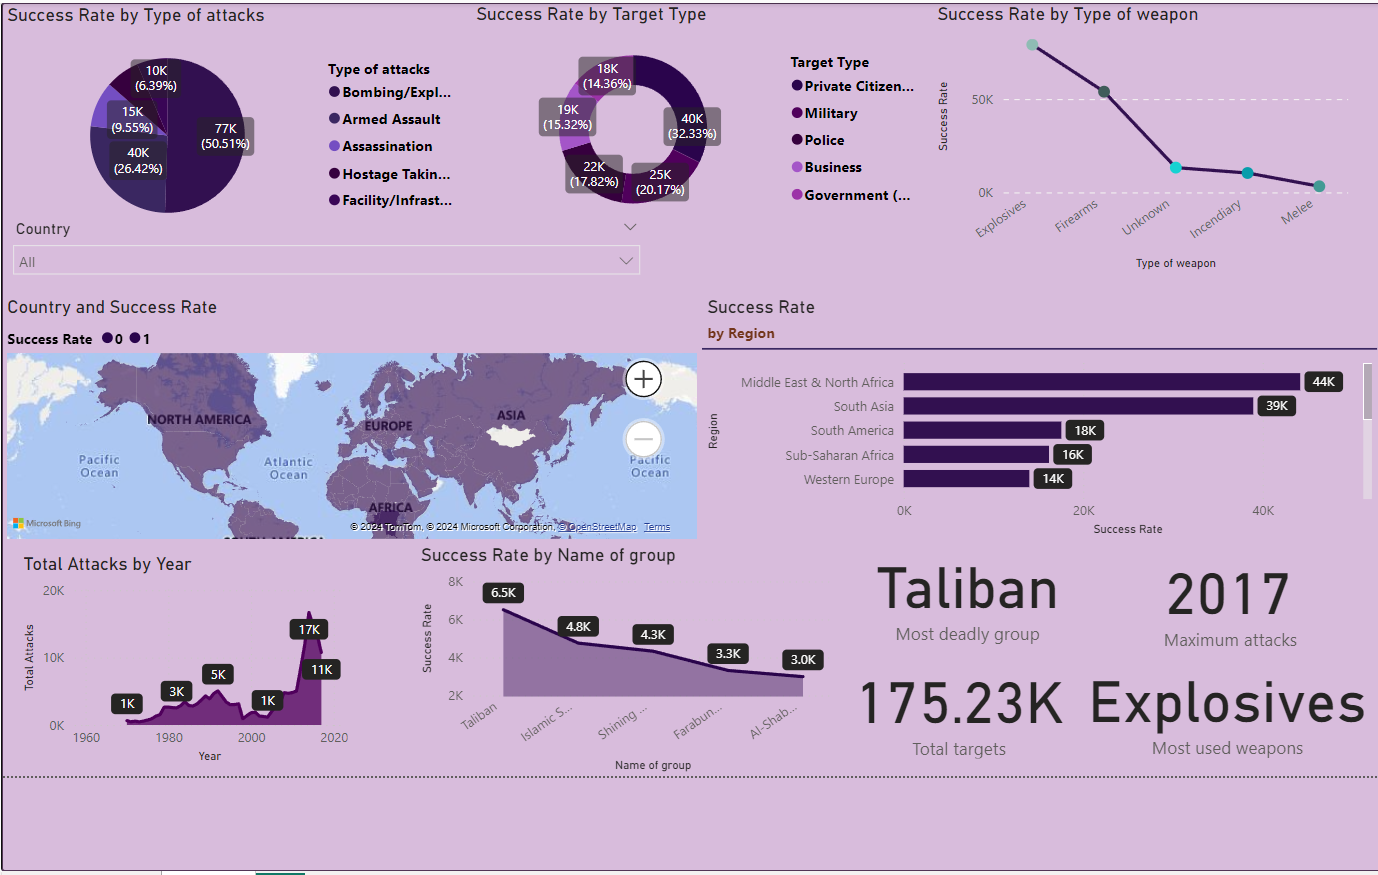

What the dashboard file says about the page in this screenshot:
{"tool":"powerbi","page":{"name":"Page 1","canvas":[1280,720],"ordinal":0},"visuals":[{"type":"pieChart","fields":{"Category":["Global terrorism final data set.Type of attacks"],"Y":["Sum(Global terrorism final data set.Success Rate)"]},"box":[0,1.1,436.3,223.8],"z":0},{"type":"donutChart","fields":{"Category":["Global terrorism final data set.Target Type"],"Y":["Sum(Global terrorism final data set.Success Rate)"]},"box":[436.3,0,428.4,214.8],"z":1000},{"type":"lineChart","fields":{"Category":["Global terrorism final data set.Type of weapon"],"Y":["Sum(Global terrorism final data set.Success Rate)"]},"box":[864.7,0,392.2,253.2],"z":2000},{"type":"filledMap","fields":{"Category":["Global terrorism final data set.Country"],"Series":["Global terrorism final data set.Success Rate"]},"box":[0,271.7,651.7,231.7],"z":3000},{"type":"barChart","fields":{"Category":["Global terrorism final data set.Region"],"Y":["Sum(Global terrorism final data set.Success Rate)"]},"box":[651.7,271.7,628.3,228.3],"z":4000},{"type":"areaChart","fields":{"Category":["Global terrorism final data set.Name of group"],"Y":["Sum(Global terrorism final data set.Success Rate)"]},"box":[385,503.3,393.3,216.7],"z":5000},{"type":"areaChart","fields":{"Category":["Global terrorism final data set.Year"],"Y":["CountNonNull(Global terrorism final data set.Year)"]},"box":[15,511.7,311.7,200],"z":6000},{"type":"slicer","fields":{"Values":["Global terrorism final data set.Country"]},"box":[0,196.7,603.3,75],"z":7000},{"type":"card","fields":{"Values":["Min(Global terrorism final data set.Name of group)"]},"box":[803.3,493.3,190,110],"z":8000},{"type":"card","fields":{"Values":["CountNonNull(Global terrorism final data set.Target Type)"]},"box":[786.7,601.7,206.7,106.7],"z":9000},{"type":"card","fields":{"Values":["Max(Global terrorism final data set.Year)"]},"box":[1046.7,503.3,188.3,100],"z":10000},{"type":"card","fields":{"Values":["Min(Global terrorism final data set.Type of weapon)"]},"box":[1001.7,588.3,278.3,131.7],"z":11000}]}

Visuals, with their boxes on the page's 1280x720 design canvas (x1, y1, x2, y2). These are canvas units, not pixel positions in the 1378x875 screenshot, which may show the page scaled, cropped or inside an application window:
pieChart - Global terrorism final data set.Type of attacks x Sum(Global terrorism final data set.Success Rate): x1=0, y1=1, x2=436, y2=225
donutChart - Global terrorism final data set.Target Type x Sum(Global terrorism final data set.Success Rate): x1=436, y1=0, x2=865, y2=215
lineChart - Global terrorism final data set.Type of weapon x Sum(Global terrorism final data set.Success Rate): x1=865, y1=0, x2=1257, y2=253
filledMap - Global terrorism final data set.Country x Global terrorism final data set.Success Rate: x1=0, y1=272, x2=652, y2=503
barChart - Global terrorism final data set.Region x Sum(Global terrorism final data set.Success Rate): x1=652, y1=272, x2=1280, y2=500
areaChart - Global terrorism final data set.Name of group x Sum(Global terrorism final data set.Success Rate): x1=385, y1=503, x2=778, y2=720
areaChart - Global terrorism final data set.Year x CountNonNull(Global terrorism final data set.Year): x1=15, y1=512, x2=327, y2=712
slicer - Global terrorism final data set.Country: x1=0, y1=197, x2=603, y2=272
card - Min(Global terrorism final data set.Name of group): x1=803, y1=493, x2=993, y2=603
card - CountNonNull(Global terrorism final data set.Target Type): x1=787, y1=602, x2=993, y2=708
card - Max(Global terrorism final data set.Year): x1=1047, y1=503, x2=1235, y2=603
card - Min(Global terrorism final data set.Type of weapon): x1=1002, y1=588, x2=1280, y2=720
